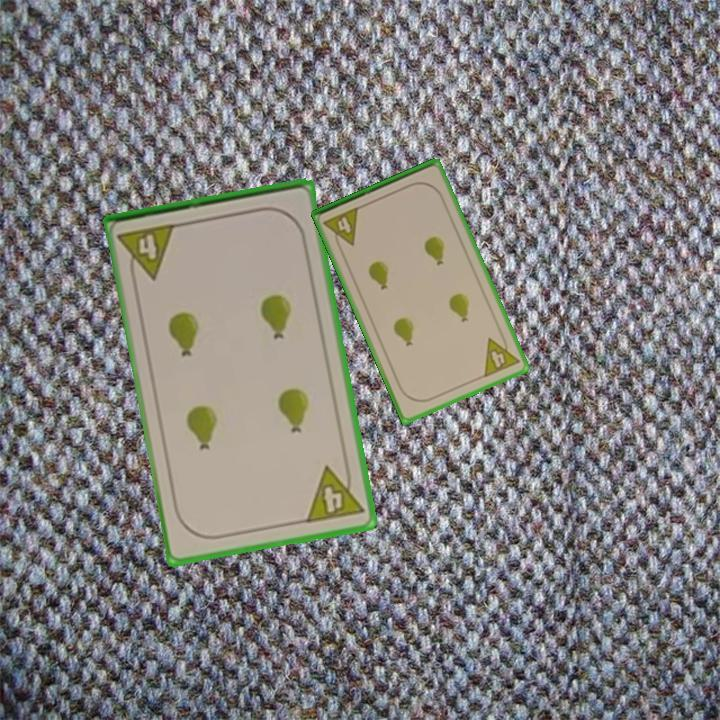4p: (302, 459, 367, 527), (114, 220, 179, 285), (480, 329, 522, 380), (320, 203, 362, 253)
